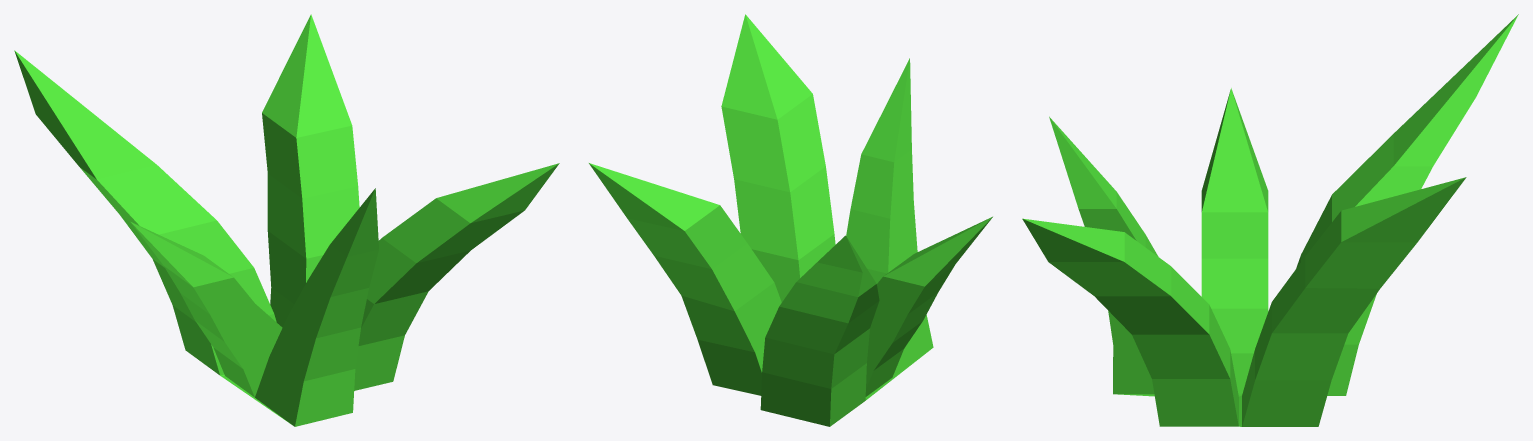
The model's file is Grass01.fbx.
The picture shows the model from 3 angles, left to right: view 1: azimuth 30°, elevation 25°; view 2: azimuth 150°, elevation 25°; view 3: azimuth 270°, elevation 25°; orthographic projection. The views are drawn at different scales.
Visible parts, largest first — view 1: Cube; view 2: Cube; view 3: Cube.
Boxes of the visible parts, box(x1,y1,x2,y2) form: Cube: box(14, 14, 559, 426); Cube: box(589, 14, 992, 426); Cube: box(1022, 14, 1518, 426).
Size of the model in its own units: 335 by 254 by 387.
